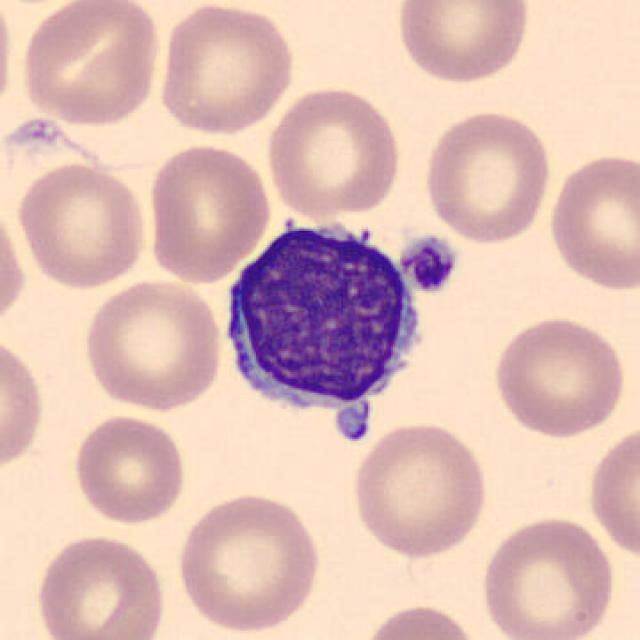Lymphocyte: (212, 204, 436, 452)
Platelets: (396, 231, 461, 296)
RBC: (172, 488, 324, 636), (348, 418, 491, 561), (153, 0, 299, 139), (78, 277, 226, 414), (144, 137, 274, 286), (263, 83, 404, 220), (18, 0, 166, 129), (420, 106, 554, 245), (13, 160, 151, 291), (489, 312, 629, 441), (476, 513, 618, 640), (30, 530, 168, 640), (544, 148, 640, 293), (70, 411, 190, 527), (392, 0, 533, 86), (585, 422, 640, 562), (0, 332, 48, 479), (357, 601, 482, 640), (0, 196, 30, 335)
